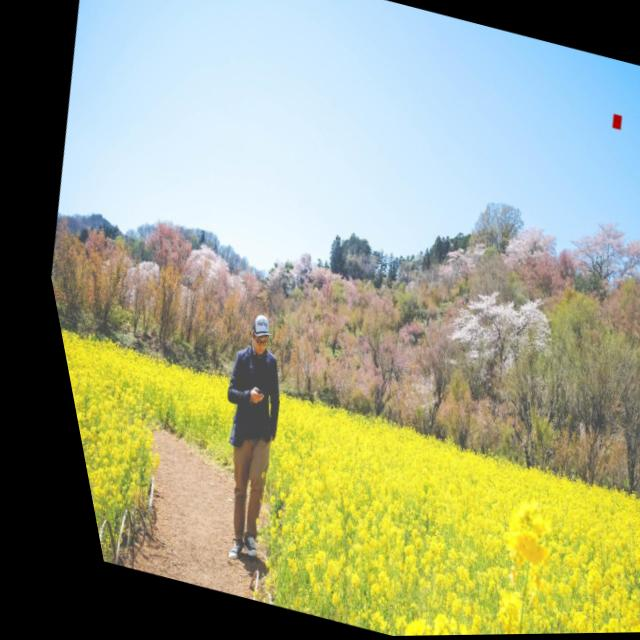RedSquare: (601, 108, 623, 138)
